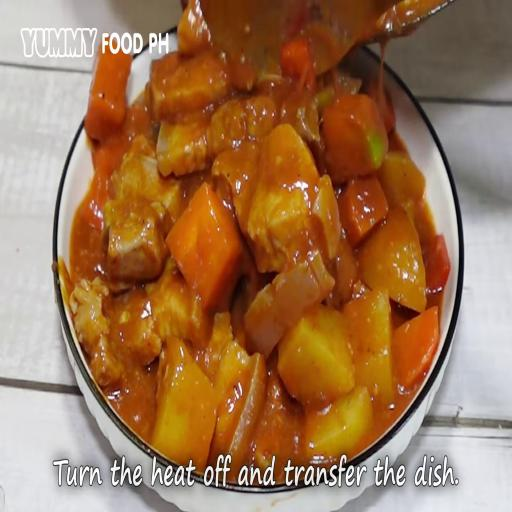pork caldereta: (64, 71, 448, 444)
